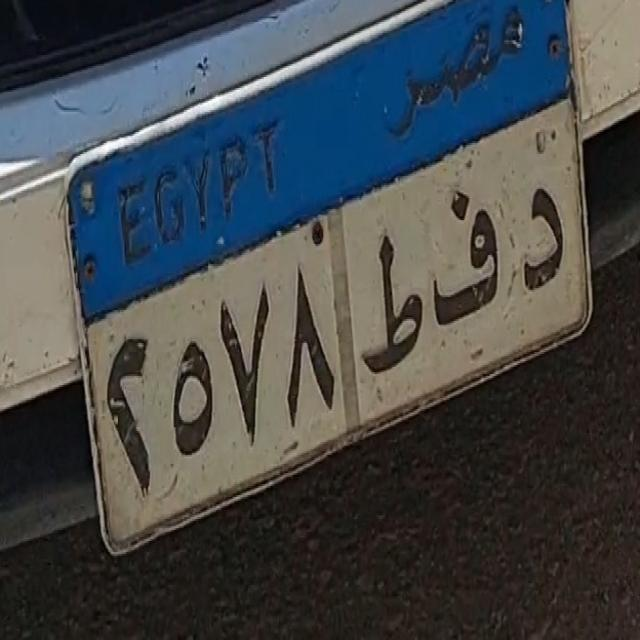2: (100, 334, 164, 504)
5: (170, 338, 219, 457)
7: (213, 284, 280, 448)
8: (286, 252, 346, 432)
F: (442, 188, 500, 332)
Taa: (359, 224, 426, 384)
daal: (520, 175, 569, 302)
